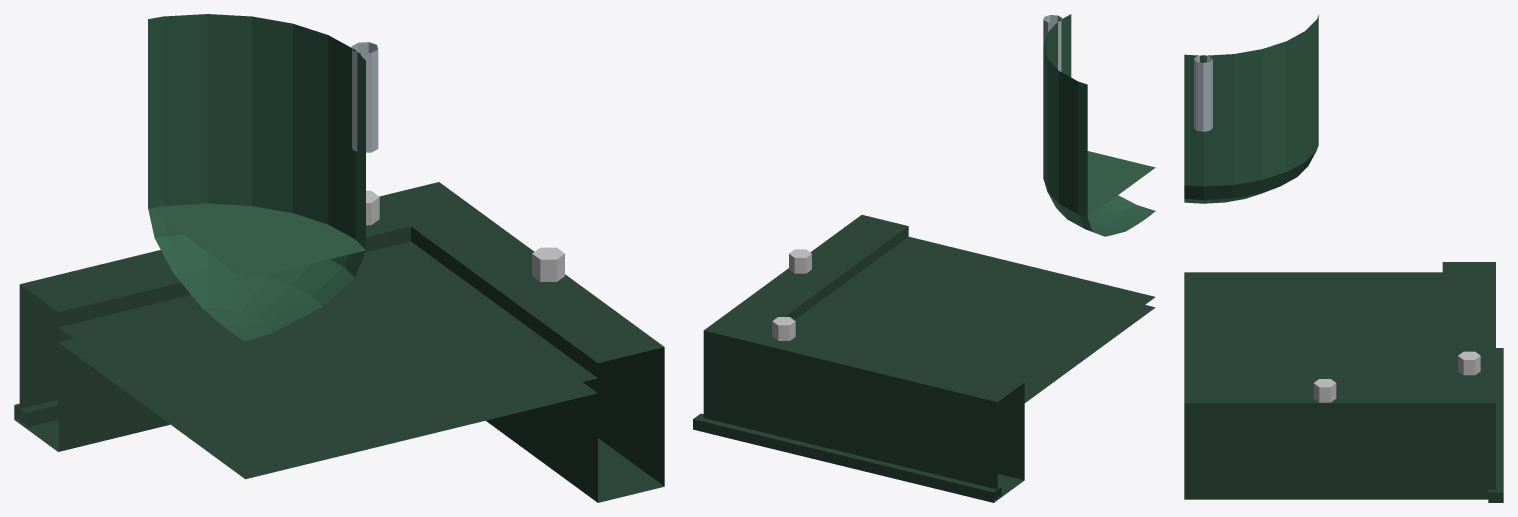
File: cell_4.obj
The picture shows the model from 3 angles, left to right: view 1: azimuth 30°, elevation 25°; view 2: azimuth 150°, elevation 25°; view 3: azimuth 270°, elevation 25°; orthographic projection. The views are drawn at different scales.
Bounding box in the file's own units: 0.9 × 1 × 0.84.
